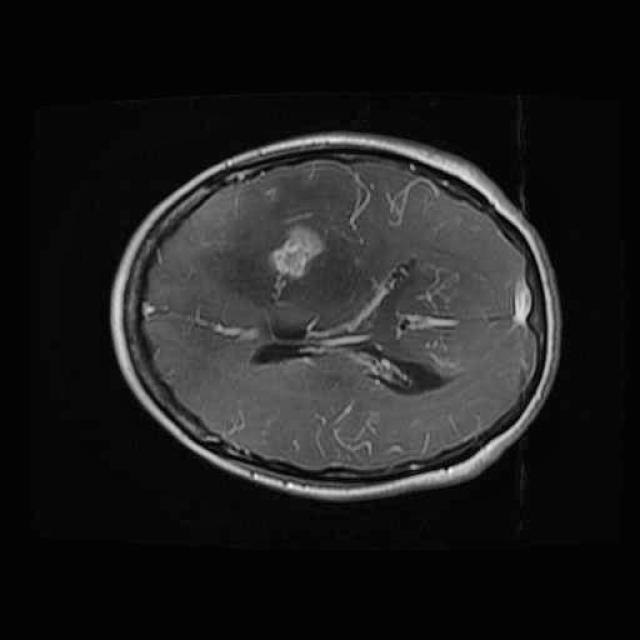Tumor: (264, 212, 335, 294)
